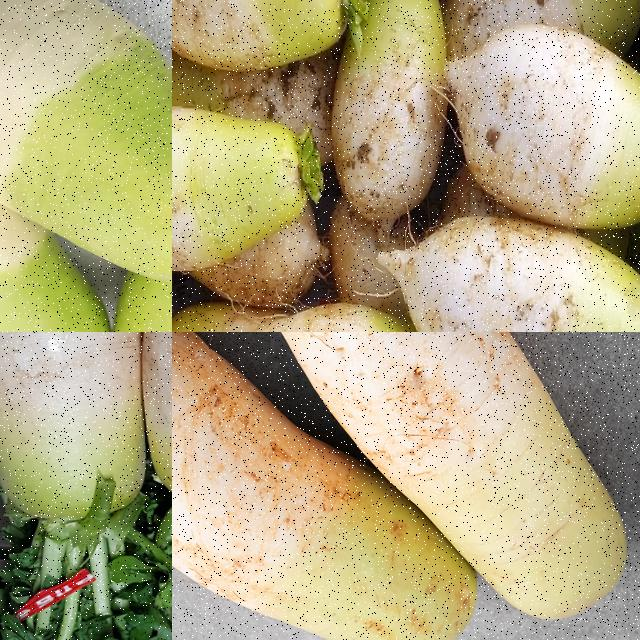radish: (242, 332, 634, 622), (172, 332, 483, 639), (0, 0, 171, 281), (443, 23, 639, 231), (374, 216, 639, 331), (0, 332, 150, 527), (172, 110, 332, 279), (335, 0, 446, 240), (172, 31, 347, 174), (0, 108, 112, 331), (432, 0, 639, 91), (172, 0, 375, 77), (111, 84, 171, 331)
